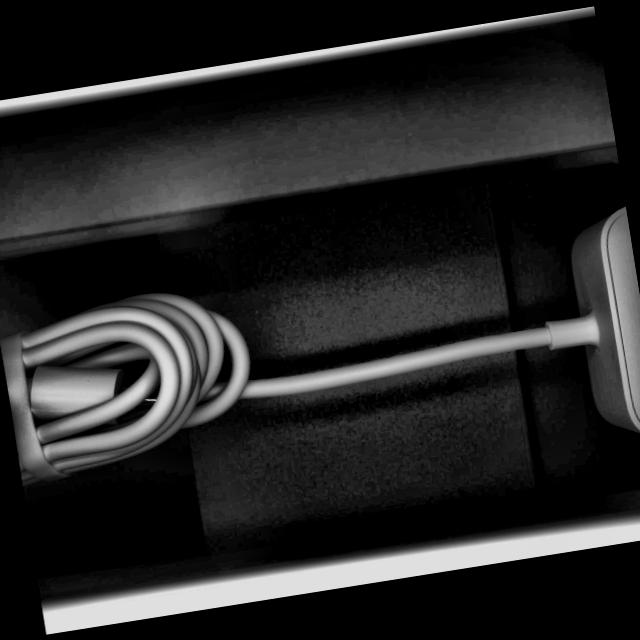Cable: (0, 196, 640, 546)
